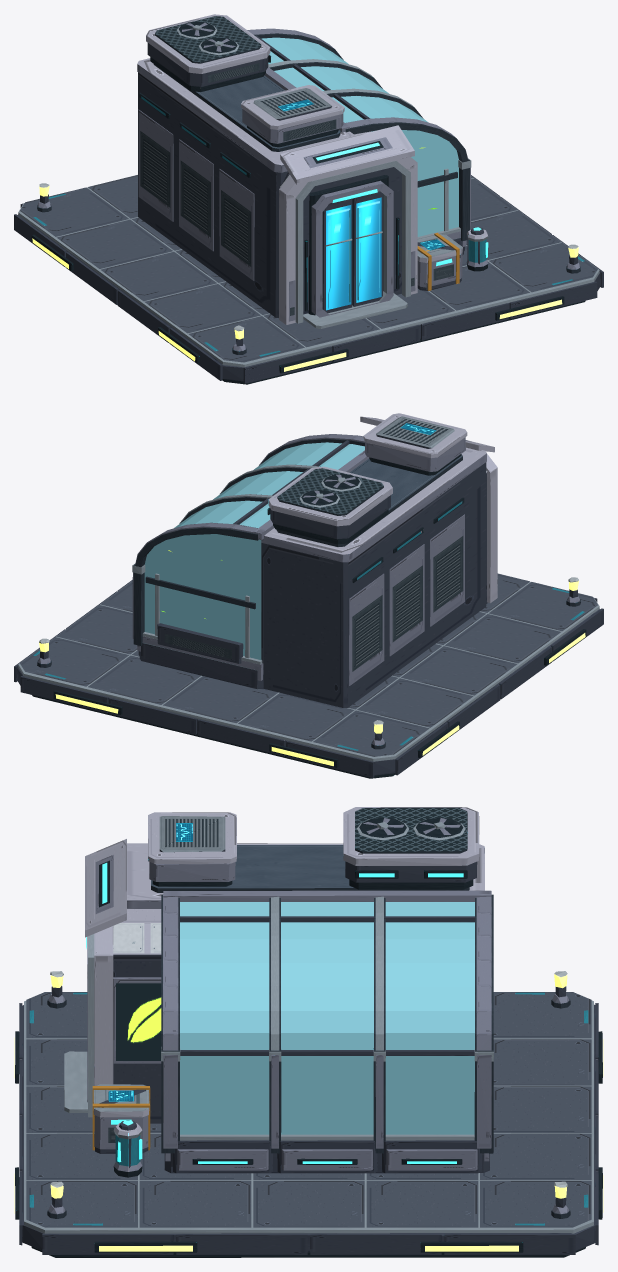
Rendered from GH02_GranjaHidroponicaModular_Distancia.fbx.
The picture shows the model from 3 angles, top to bottom: view 1: azimuth 30°, elevation 25°; view 2: azimuth 150°, elevation 25°; view 3: azimuth 270°, elevation 25°; orthographic projection. The views are drawn at different scales.
Parts seen in each view (by area): view 1: EstructuraDistante_2, CristalDistante_2; view 2: EstructuraDistante_2, CristalDistante_2; view 3: EstructuraDistante_2, CristalDistante_2.
Part boxes in pixels (x1,y1,x2,y2): EstructuraDistante_2: (14,14,603,384); CristalDistante_2: (261,37,458,236); EstructuraDistante_2: (14,413,603,778); CristalDistante_2: (144,442,364,659); EstructuraDistante_2: (14,807,603,1257); CristalDistante_2: (180,902,474,1134).
Size of the model in its own units: 6.15 by 3.27 by 6.23.
